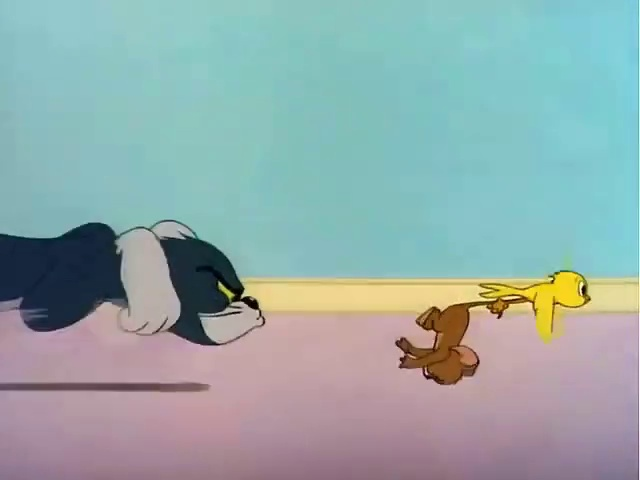jerry: (382, 283, 546, 418)
tom: (2, 220, 314, 398)
